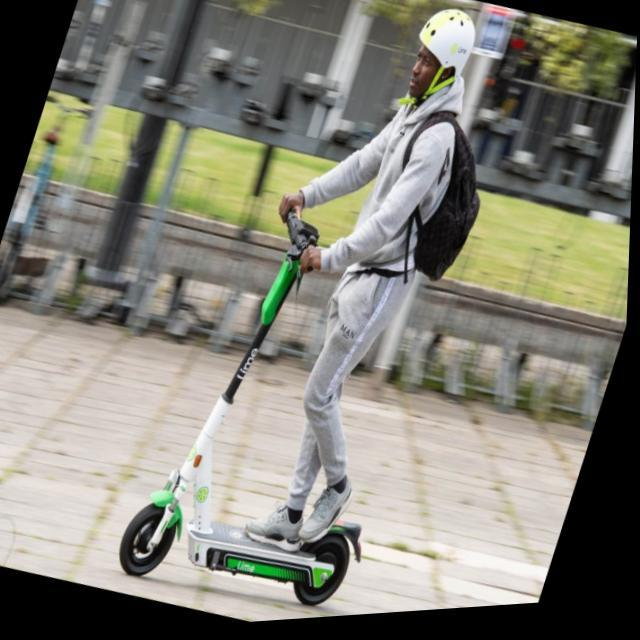Helmet: (401, 0, 484, 107)
